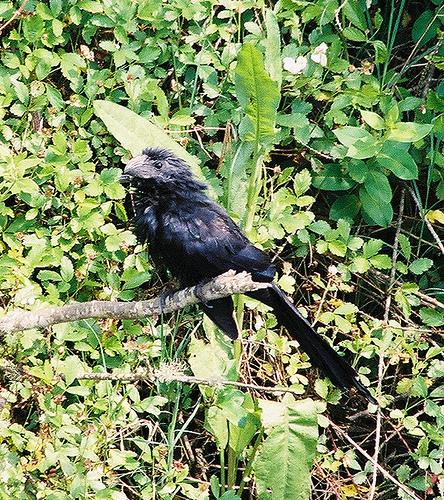004.Groove_billed_Ani: (121, 147, 373, 405)
